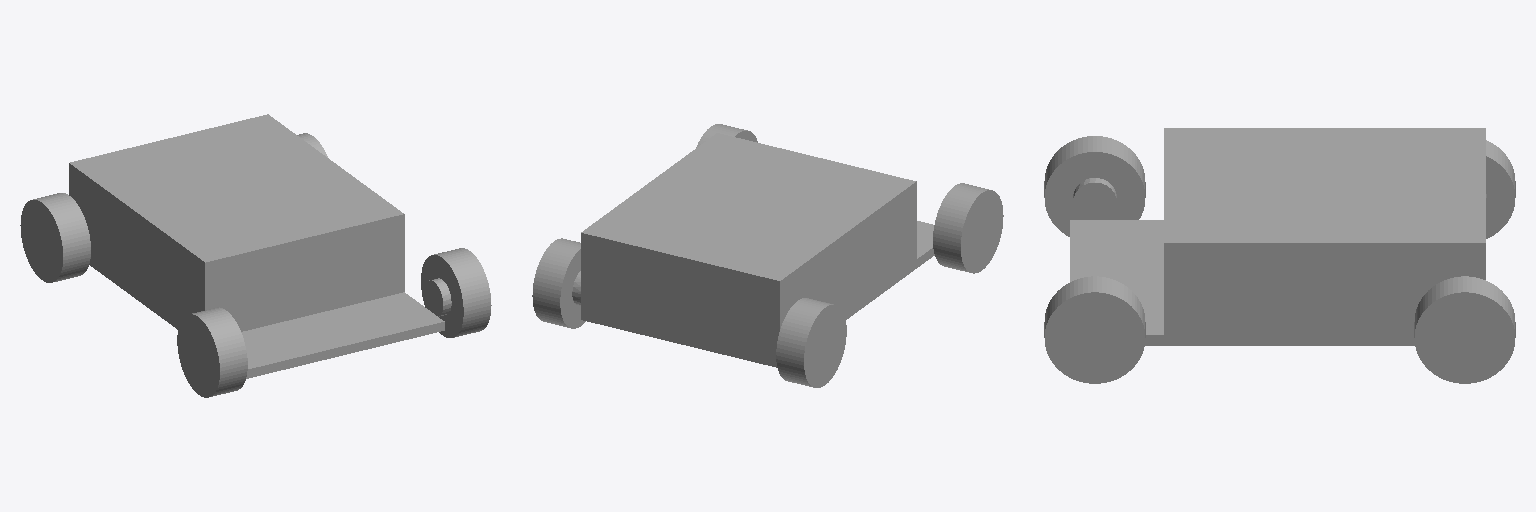
URDF robot description (new):
<?xml version="1.0" ?>
<!-- =================================================================================== -->
<!-- |    This document was autogenerated by xacro from [local-path]\robotics\new_description\urdf\new.xacro | -->
<!-- |    EDITING THIS FILE BY HAND IS NOT RECOMMENDED                                 | -->
<!-- =================================================================================== -->
<robot xmlns:xacro="http://www.ros.org/wiki/xacro" name="new">
  <material name="silver">
    <color rgba="0.700 0.700 0.700 1.000"/>
  </material>
  <transmission name="Revolute 1_tran">
    <type>transmission_interface/SimpleTransmission</type>
    <joint name="Revolute 1">
      <hardwareInterface>hardware_interface/EffortJointInterface</hardwareInterface>
    </joint>
    <actuator name="Revolute 1_actr">
      <hardwareInterface>hardware_interface/EffortJointInterface</hardwareInterface>
      <mechanicalReduction>1</mechanicalReduction>
    </actuator>
  </transmission>
  <transmission name="Revolute 2_tran">
    <type>transmission_interface/SimpleTransmission</type>
    <joint name="Revolute 2">
      <hardwareInterface>hardware_interface/EffortJointInterface</hardwareInterface>
    </joint>
    <actuator name="Revolute 2_actr">
      <hardwareInterface>hardware_interface/EffortJointInterface</hardwareInterface>
      <mechanicalReduction>1</mechanicalReduction>
    </actuator>
  </transmission>
  <transmission name="Revolute 3_tran">
    <type>transmission_interface/SimpleTransmission</type>
    <joint name="Revolute 3">
      <hardwareInterface>hardware_interface/EffortJointInterface</hardwareInterface>
    </joint>
    <actuator name="Revolute 3_actr">
      <hardwareInterface>hardware_interface/EffortJointInterface</hardwareInterface>
      <mechanicalReduction>1</mechanicalReduction>
    </actuator>
  </transmission>
  <transmission name="Revolute 4_tran">
    <type>transmission_interface/SimpleTransmission</type>
    <joint name="Revolute 4">
      <hardwareInterface>hardware_interface/EffortJointInterface</hardwareInterface>
    </joint>
    <actuator name="Revolute 4_actr">
      <hardwareInterface>hardware_interface/EffortJointInterface</hardwareInterface>
      <mechanicalReduction>1</mechanicalReduction>
    </actuator>
  </transmission>
  <gazebo>
    <plugin name="control" filename="libgazebo_ros_control.so"/>
  </gazebo>
  <gazebo reference="base_link">
    <material>Gazebo/Silver</material>
    <mu1>0.2</mu1>
    <mu2>0.2</mu2>
    <selfCollide>true</selfCollide>
    <gravity>true</gravity>
  </gazebo>
  <gazebo reference="front_right_1">
    <material>Gazebo/Silver</material>
    <mu1>0.2</mu1>
    <mu2>0.2</mu2>
    <selfCollide>true</selfCollide>
  </gazebo>
  <gazebo reference="rear_right_1">
    <material>Gazebo/Silver</material>
    <mu1>0.2</mu1>
    <mu2>0.2</mu2>
    <selfCollide>true</selfCollide>
  </gazebo>
  <gazebo reference="rear_left_1">
    <material>Gazebo/Silver</material>
    <mu1>0.2</mu1>
    <mu2>0.2</mu2>
    <selfCollide>true</selfCollide>
  </gazebo>
  <gazebo reference="front_left_1">
    <material>Gazebo/Silver</material>
    <mu1>0.2</mu1>
    <mu2>0.2</mu2>
    <selfCollide>true</selfCollide>
  </gazebo>
  <link name="base_link">
    <inertial>
      <origin xyz="7.520858146252514e-12 -0.005127814038988313 0.04367176151374712" rpy="0 0 0"/>
      <mass value="40.195619262816834"/>
      <inertia ixx="0.276138" iyy="0.185347" izz="0.405195" ixy="0.0" iyz="-0.007834" ixz="0.0"/>
    </inertial>
    <visual>
      <origin xyz="0 0 0" rpy="0 0 0"/>
      <geometry>
        <mesh filename="package://new_description/meshes/base_link.stl" scale="0.001 0.001 0.001"/>
      </geometry>
      <material name="silver"/>
    </visual>
    <collision>
      <origin xyz="0 0 0" rpy="0 0 0"/>
      <geometry>
        <mesh filename="package://new_description/meshes/base_link.stl" scale="0.001 0.001 0.001"/>
      </geometry>
    </collision>
  </link>
  <link name="front_right_1">
    <inertial>
      <origin xyz="-0.015 -2.7755575615628914e-17 -6.938893903907228e-18" rpy="0 0 0"/>
      <mass value="0.1766957372085043"/>
      <inertia ixx="0.000141" iyy="8.4e-05" izz="8.4e-05" ixy="0.0" iyz="-0.0" ixz="-0.0"/>
    </inertial>
    <visual>
      <origin xyz="0.1165 0.1825 -0.025" rpy="0 0 0"/>
      <geometry>
        <mesh filename="package://new_description/meshes/front_right_1.stl" scale="0.001 0.001 0.001"/>
      </geometry>
      <material name="silver"/>
    </visual>
    <collision>
      <origin xyz="0.1165 0.1825 -0.025" rpy="0 0 0"/>
      <geometry>
        <mesh filename="package://new_description/meshes/front_right_1.stl" scale="0.001 0.001 0.001"/>
      </geometry>
    </collision>
  </link>
  <link name="rear_right_1">
    <inertial>
      <origin xyz="-0.015 2.7755575615628914e-17 -6.938893903907228e-18" rpy="0 0 0"/>
      <mass value="0.1766957372085043"/>
      <inertia ixx="0.000141" iyy="8.4e-05" izz="8.4e-05" ixy="0.0" iyz="0.0" ixz="-0.0"/>
    </inertial>
    <visual>
      <origin xyz="0.1165 -0.1105 -0.025" rpy="0 0 0"/>
      <geometry>
        <mesh filename="package://new_description/meshes/rear_right_1.stl" scale="0.001 0.001 0.001"/>
      </geometry>
      <material name="silver"/>
    </visual>
    <collision>
      <origin xyz="0.1165 -0.1105 -0.025" rpy="0 0 0"/>
      <geometry>
        <mesh filename="package://new_description/meshes/rear_right_1.stl" scale="0.001 0.001 0.001"/>
      </geometry>
    </collision>
  </link>
  <link name="rear_left_1">
    <inertial>
      <origin xyz="0.015 0.0 0.0" rpy="0 0 0"/>
      <mass value="0.1766957372085043"/>
      <inertia ixx="0.000141" iyy="8.4e-05" izz="8.4e-05" ixy="0.0" iyz="0.0" ixz="0.0"/>
    </inertial>
    <visual>
      <origin xyz="-0.1165 -0.1105 -0.025" rpy="0 0 0"/>
      <geometry>
        <mesh filename="package://new_description/meshes/rear_left_1.stl" scale="0.001 0.001 0.001"/>
      </geometry>
      <material name="silver"/>
    </visual>
    <collision>
      <origin xyz="-0.1165 -0.1105 -0.025" rpy="0 0 0"/>
      <geometry>
        <mesh filename="package://new_description/meshes/rear_left_1.stl" scale="0.001 0.001 0.001"/>
      </geometry>
    </collision>
  </link>
  <link name="front_left_1">
    <inertial>
      <origin xyz="0.015 0.0 0.0" rpy="0 0 0"/>
      <mass value="0.1766957372085043"/>
      <inertia ixx="0.000141" iyy="8.4e-05" izz="8.4e-05" ixy="0.0" iyz="0.0" ixz="0.0"/>
    </inertial>
    <visual>
      <origin xyz="-0.1165 0.1825 -0.025" rpy="0 0 0"/>
      <geometry>
        <mesh filename="package://new_description/meshes/front_left_1.stl" scale="0.001 0.001 0.001"/>
      </geometry>
      <material name="silver"/>
    </visual>
    <collision>
      <origin xyz="-0.1165 0.1825 -0.025" rpy="0 0 0"/>
      <geometry>
        <mesh filename="package://new_description/meshes/front_left_1.stl" scale="0.001 0.001 0.001"/>
      </geometry>
    </collision>
  </link>
  <joint name="Revolute 1" type="continuous">
    <origin xyz="-0.1165 -0.1825 0.025" rpy="0 0 0"/>
    <parent link="base_link"/>
    <child link="front_right_1"/>
    <axis xyz="1.0 0.0 0.0"/>
  </joint>
  <joint name="Revolute 2" type="continuous">
    <origin xyz="-0.1165 0.1105 0.025" rpy="0 0 0"/>
    <parent link="base_link"/>
    <child link="rear_right_1"/>
    <axis xyz="1.0 0.0 0.0"/>
  </joint>
  <joint name="Revolute 3" type="continuous">
    <origin xyz="0.1165 0.1105 0.025" rpy="0 0 0"/>
    <parent link="base_link"/>
    <child link="rear_left_1"/>
    <axis xyz="1.0 0.0 0.0"/>
  </joint>
  <joint name="Revolute 4" type="continuous">
    <origin xyz="0.1165 -0.1825 0.025" rpy="0 0 0"/>
    <parent link="base_link"/>
    <child link="front_left_1"/>
    <axis xyz="1.0 0.0 0.0"/>
  </joint>
</robot>

--- Facts derived from the render (not from the file) ---
The picture shows the robot from 3 angles, left to right: view 1: azimuth 30°, elevation 25°; view 2: azimuth 150°, elevation 25°; view 3: azimuth 270°, elevation 25°; orthographic projection.
Model new with 5 links and 4 joints (4 continuous), rooted at base_link, posed all joints at 0.
Visible links, largest first — view 1: base_link, front_right_1, rear_right_1, front_left_1; view 2: base_link, rear_right_1, front_right_1, rear_left_1, front_left_1; view 3: base_link, rear_left_1, front_left_1, front_right_1, rear_right_1.
Boxes of the visible links, x1=… form: base_link: x1=69, y1=114, x2=451, y2=378; front_right_1: x1=177, y1=307, x2=247, y2=397; rear_right_1: x1=20, y1=193, x2=90, y2=282; front_left_1: x1=421, y1=248, x2=491, y2=337; base_link: x1=572, y1=133, x2=934, y2=367; rear_right_1: x1=776, y1=298, x2=846, y2=387; front_right_1: x1=933, y1=183, x2=1003, y2=273; rear_left_1: x1=532, y1=238, x2=585, y2=328; front_left_1: x1=696, y1=124, x2=757, y2=147; base_link: x1=1070, y1=128, x2=1486, y2=345; rear_left_1: x1=1414, y1=276, x2=1515, y2=383; front_left_1: x1=1044, y1=276, x2=1145, y2=383; front_right_1: x1=1044, y1=136, x2=1145, y2=236; rear_right_1: x1=1486, y1=140, x2=1515, y2=238.
Size in the robot's own frame: 0.293 by 0.373 by 0.105 metres.
5 mesh visuals loaded from 5 distinct referenced files (5 binary STL).